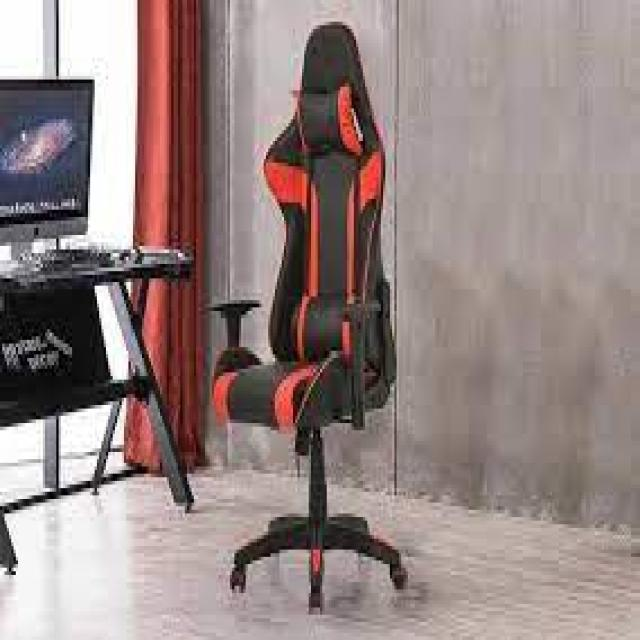chair: (176, 9, 444, 639)
